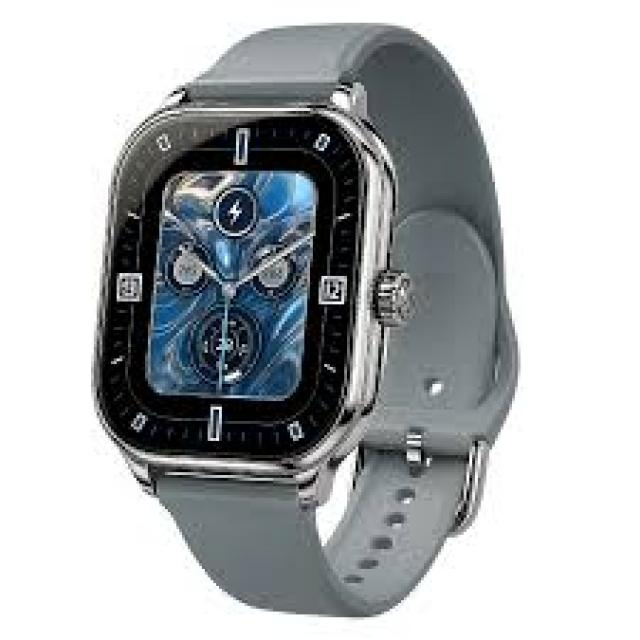objects: (97, 23, 523, 616)
